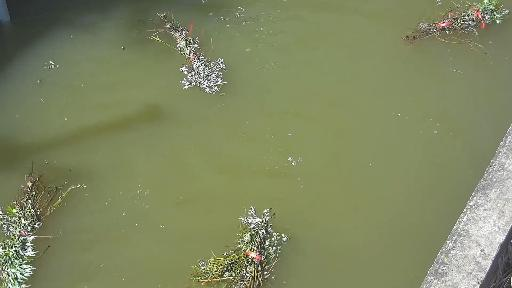twig: (0, 168, 91, 288), (180, 200, 301, 288), (150, 5, 233, 96), (400, 5, 512, 49)
